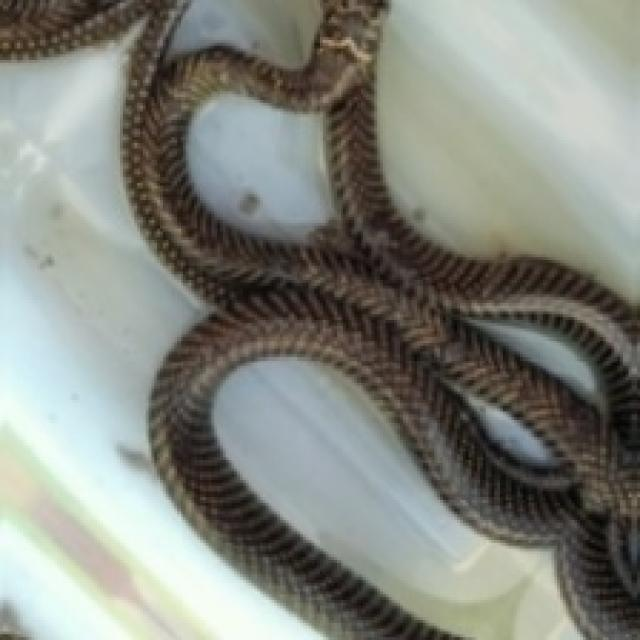paradise tree snake: (0, 0, 637, 637), (217, 351, 391, 500), (183, 91, 326, 160)
